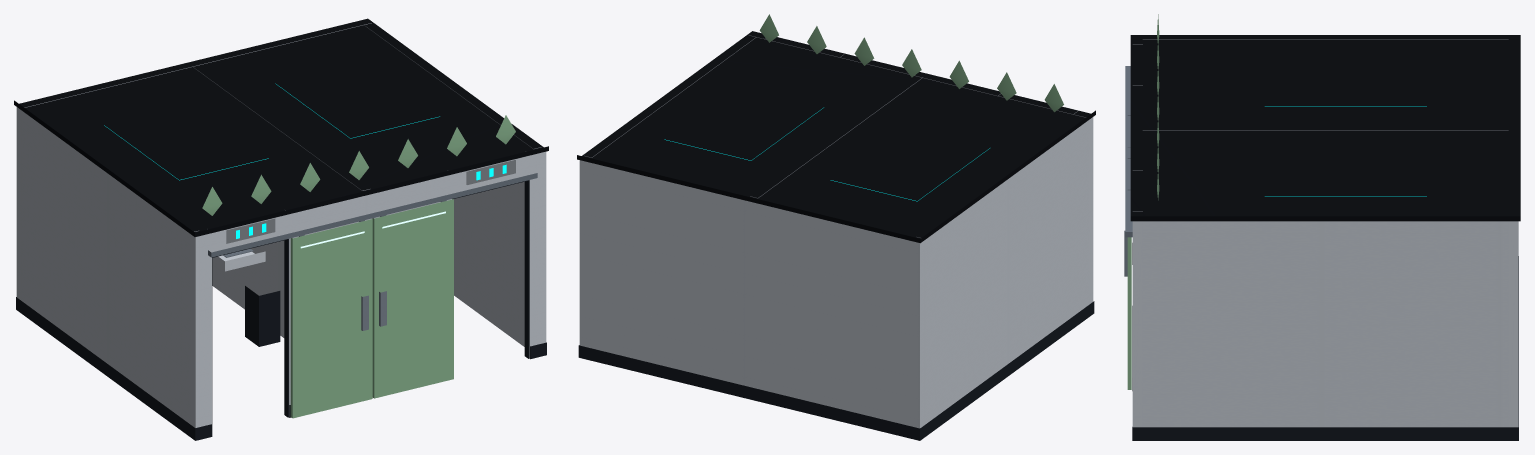
3 views of the same model, side by side, from view 1: azimuth 30°, elevation 25°; view 2: azimuth 150°, elevation 25°; view 3: azimuth 270°, elevation 25° (orthographic). The views are drawn at different scales.
Parts seen in each view (by area): view 1: Roof_Slab, Shell_Walls, Leaf_A_Panel, Leaf_B_Panel, Base_Band, Door_Jambs, Leaf_Crests, Door_Track, Bin, Sign_Plates, Lavatory; view 2: Shell_Walls, Roof_Slab, Base_Band, Leaf_Crests; view 3: Shell_Walls, Roof_Slab, Base_Band, Door_Track, Leaf_B_Panel, Leaf_Crests.
Boxes of the visible parts, bbox=[...] form: Roof_Slab: bbox=[14, 18, 548, 236]; Shell_Walls: bbox=[16, 23, 546, 427]; Leaf_A_Panel: bbox=[290, 219, 372, 418]; Leaf_B_Panel: bbox=[372, 199, 453, 398]; Base_Band: bbox=[16, 297, 546, 440]; Door_Jambs: bbox=[212, 180, 529, 423]; Leaf_Crests: bbox=[202, 115, 515, 215]; Door_Track: bbox=[208, 173, 537, 257]; Bin: bbox=[245, 286, 280, 346]; Sign_Plates: bbox=[226, 159, 515, 243]; Lavatory: bbox=[212, 251, 265, 271]; Shell_Walls: bbox=[579, 35, 1093, 428]; Roof_Slab: bbox=[577, 31, 1095, 243]; Base_Band: bbox=[578, 301, 1094, 440]; Leaf_Crests: bbox=[759, 14, 1063, 112]; Shell_Walls: bbox=[1132, 39, 1518, 427]; Roof_Slab: bbox=[1130, 35, 1520, 221]; Base_Band: bbox=[1132, 243, 1518, 440]; Door_Track: bbox=[1125, 66, 1132, 237]; Leaf_B_Panel: bbox=[1127, 237, 1131, 389]; Leaf_Crests: bbox=[1157, 14, 1159, 200].
Size of what is drawn, in the model's own units: 4.34 by 2.8 by 3.9.
12 materials, 5 textured.
